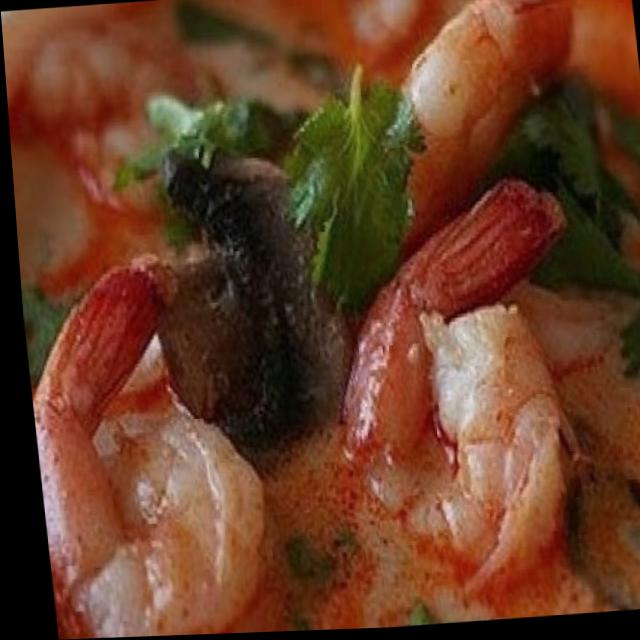汤锅炖物: (24, 38, 640, 639)
